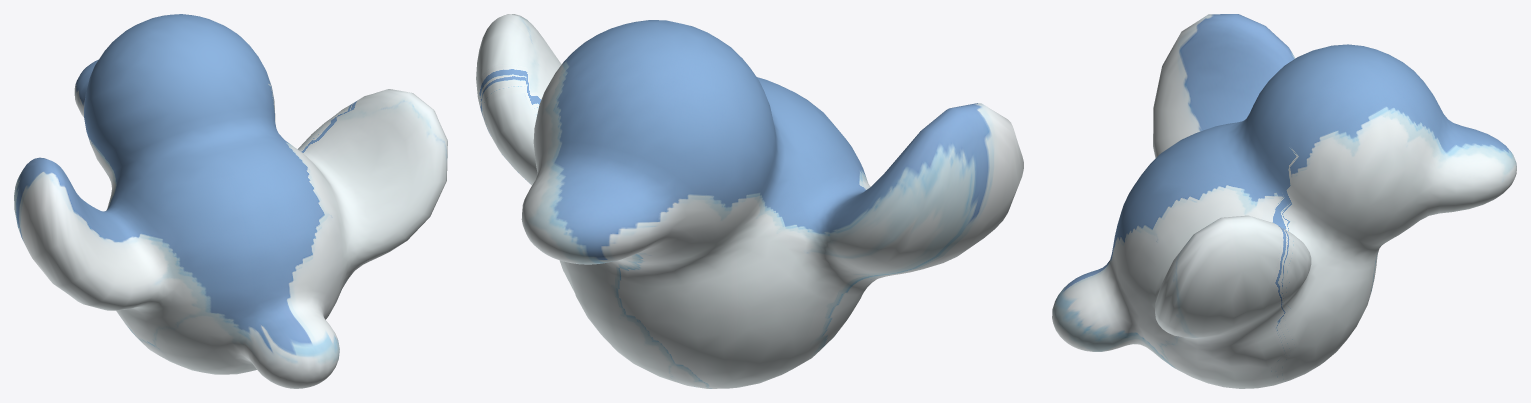
File: bird2.glb
3 renders of one model, left to right at view 1: azimuth 30°, elevation 25°; view 2: azimuth 150°, elevation 25°; view 3: azimuth 270°, elevation 25°, orthographic. The views are drawn at different scales.
Parts seen in each view (by area): view 1: 重构网格; view 2: 重构网格; view 3: 重构网格.
Part boxes in pixels (x1,y1,x2,y2): 重构网格: [14, 14, 447, 388]; 重构网格: [476, 14, 1023, 388]; 重构网格: [1052, 14, 1516, 388].
Bounding box in the file's own units: 7.64 × 5.41 × 7.03.
Materials: 1 (1 with a texture image).
